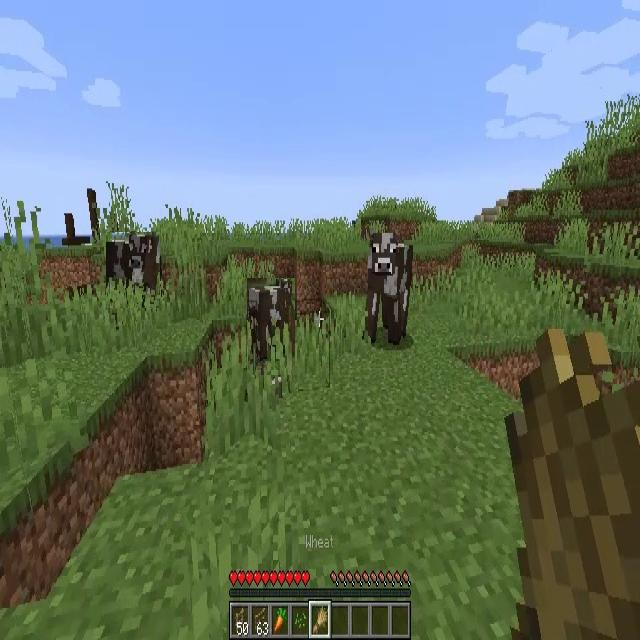cow: (366, 232, 411, 343), (247, 278, 295, 375), (106, 232, 160, 308)
